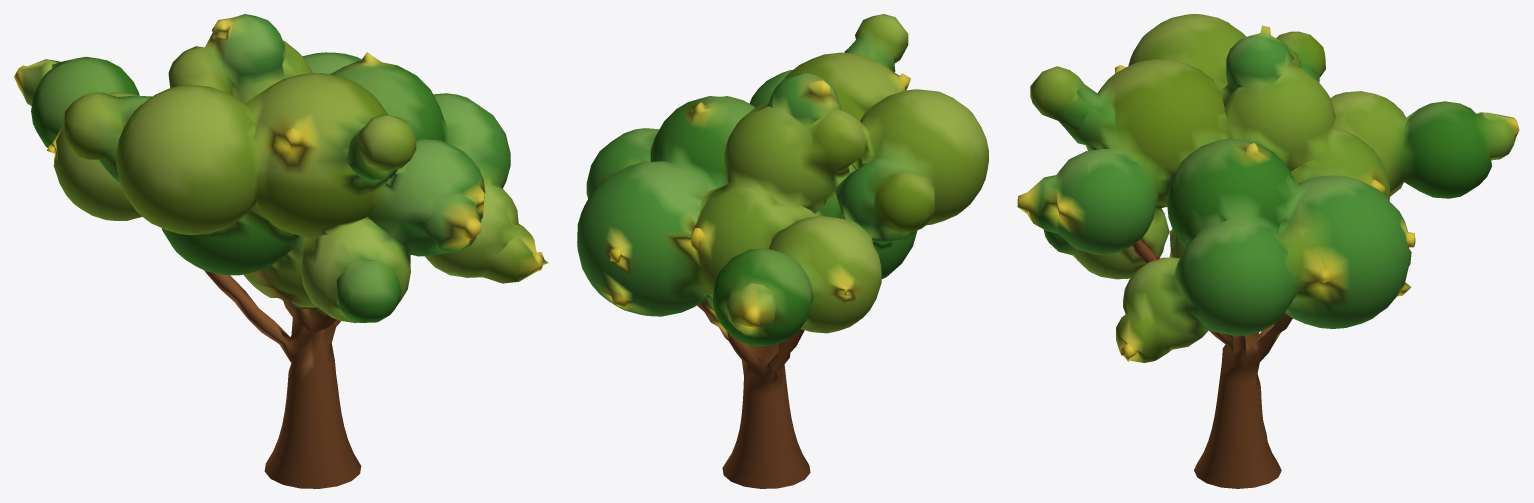
Rendered from orchard-tree-108-lod1.obj.
3 renders of one model, left to right at view 1: azimuth 30°, elevation 25°; view 2: azimuth 150°, elevation 25°; view 3: azimuth 270°, elevation 25°, orthographic. The views are drawn at different scales.
Parts seen in each view (by area): view 1: simplified; view 2: simplified; view 3: simplified.
Boxes of the visible parts, x1,y1,x2,y2 form: simplified: (14, 14, 548, 488); simplified: (577, 14, 988, 488); simplified: (1017, 14, 1519, 488).
Bounding box in the file's own units: 346 × 376 × 416.
